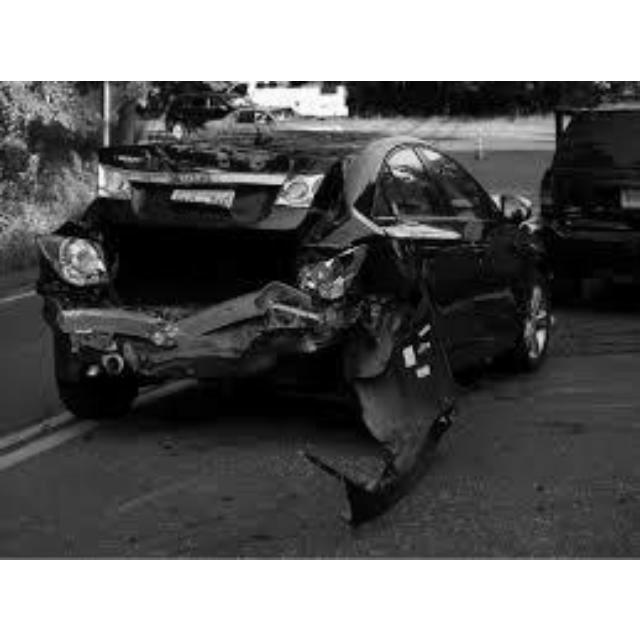Taillight-Damage: (280, 224, 356, 300)
rear-bumper-dent: (63, 301, 302, 372)
